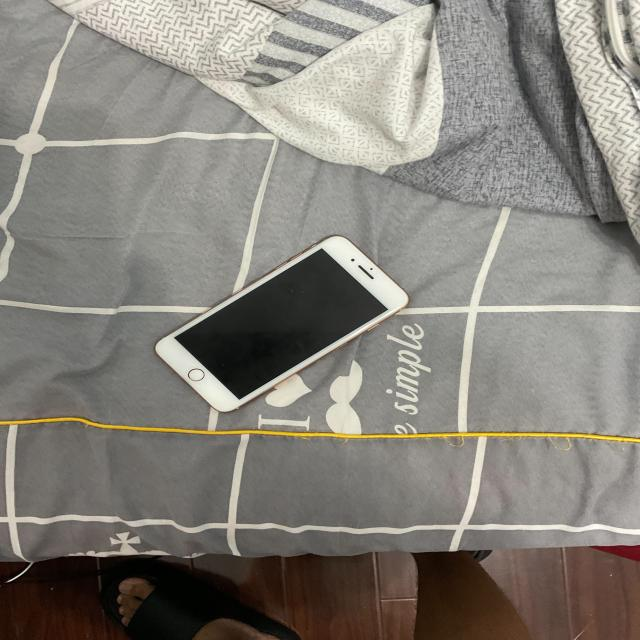phone: (155, 236, 408, 412)
